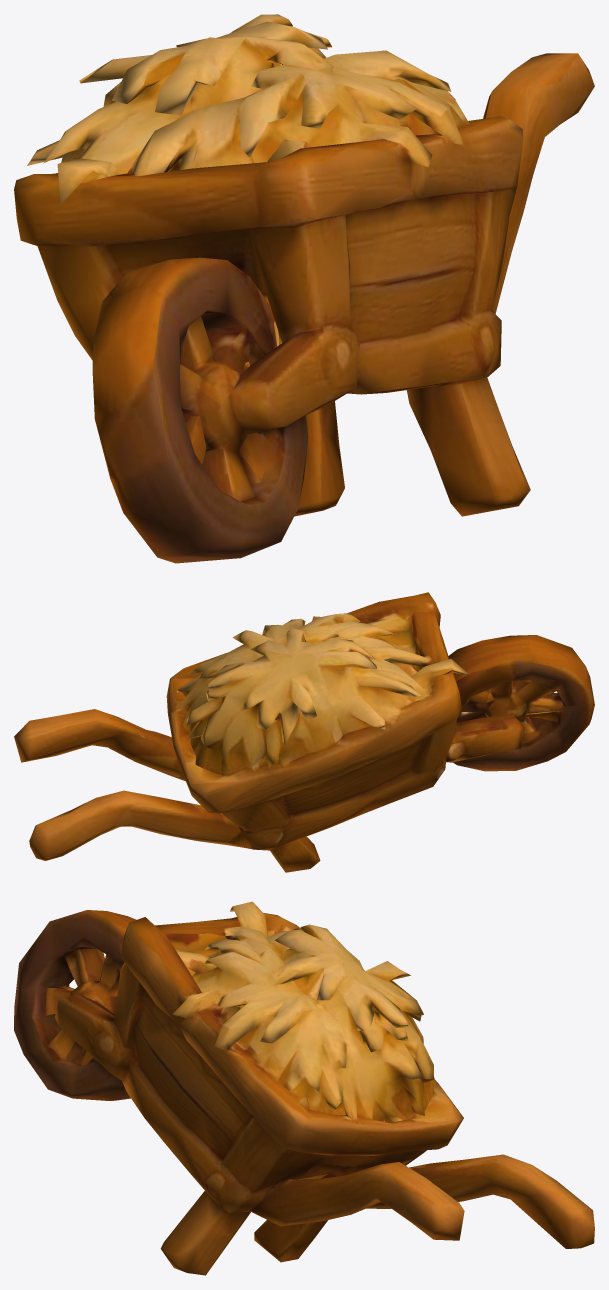
Rendered from wheelbarrow.glb.
3 views of the same model, one above another, from view 1: azimuth 30°, elevation 25°; view 2: azimuth 150°, elevation 25°; view 3: azimuth 270°, elevation 25° (orthographic). The views are drawn at different scales.
Parts seen in each view (by area): view 1: textured_mesh.obj; view 2: textured_mesh.obj; view 3: textured_mesh.obj.
Part boxes in pixels (x1,y1,x2,y2): textured_mesh.obj: (14,14,594,563); textured_mesh.obj: (14,592,594,872); textured_mesh.obj: (14,901,594,1275).
Size of what is drawn, in the model's own units: 1.68 by 0.9501 by 1.7.
1 material, 1 textured.
